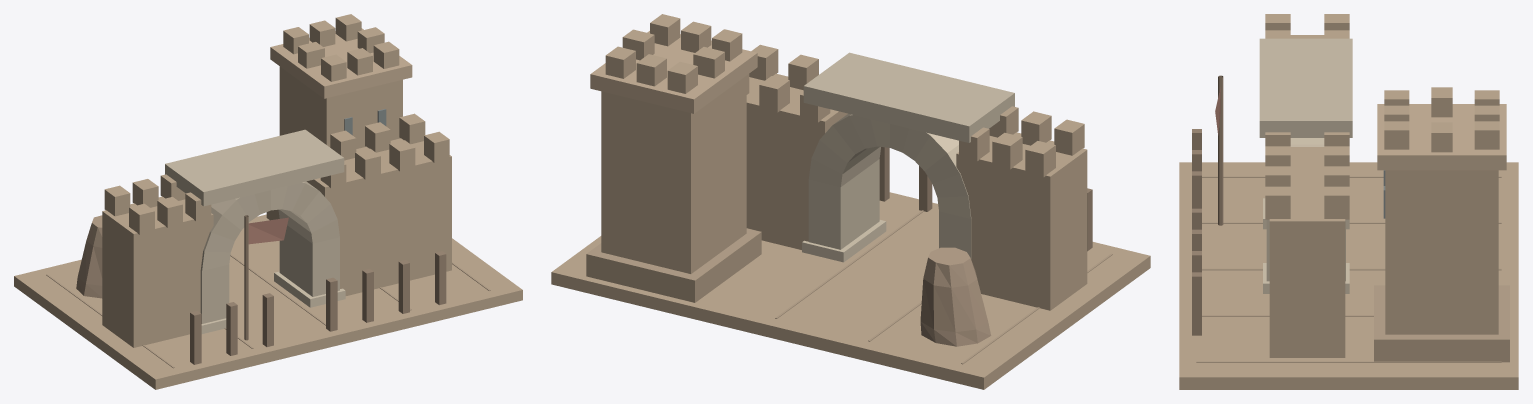
3 views of the same model, side by side, from view 1: azimuth 30°, elevation 25°; view 2: azimuth 150°, elevation 25°; view 3: azimuth 270°, elevation 25° (orthographic). The views are drawn at different scales.
Visible parts, largest first — view 1: S28; view 2: S28; view 3: S28.
Boxes of the visible parts, x1,y1,x2,y2 form: S28: [14, 14, 522, 389]; S28: [551, 14, 1150, 389]; S28: [1179, 14, 1518, 389].
Bounding box in the file's own units: 4.05 × 2.09 × 2.7.
